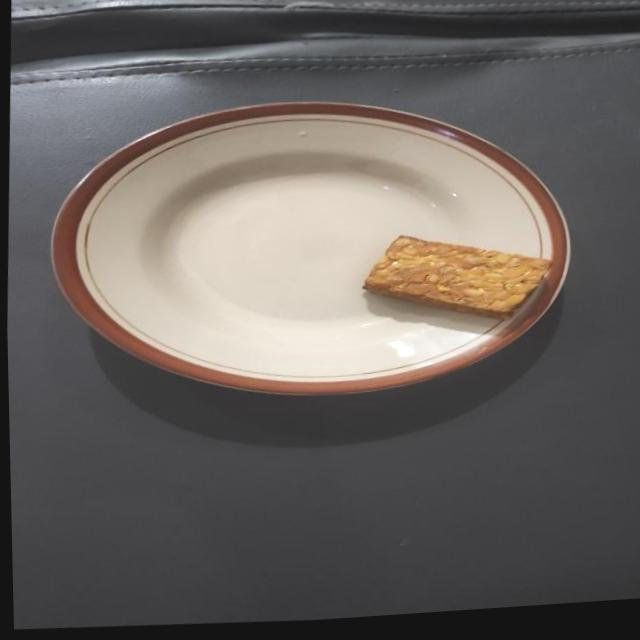tempe_goreng: (363, 235, 550, 318)
